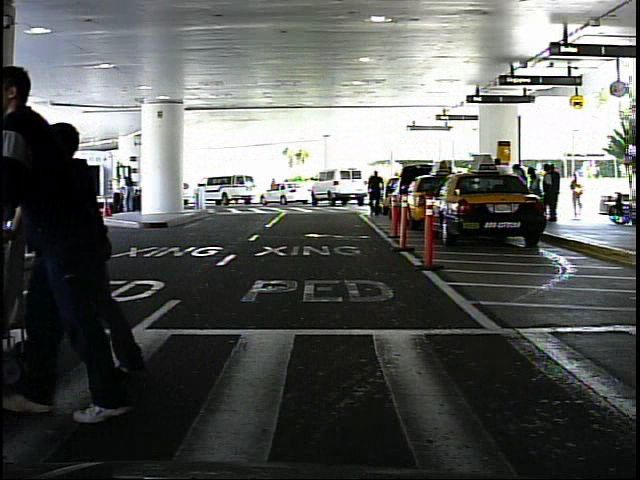person: (0, 52, 110, 431), (366, 168, 388, 218), (571, 172, 590, 218), (107, 175, 127, 213)
